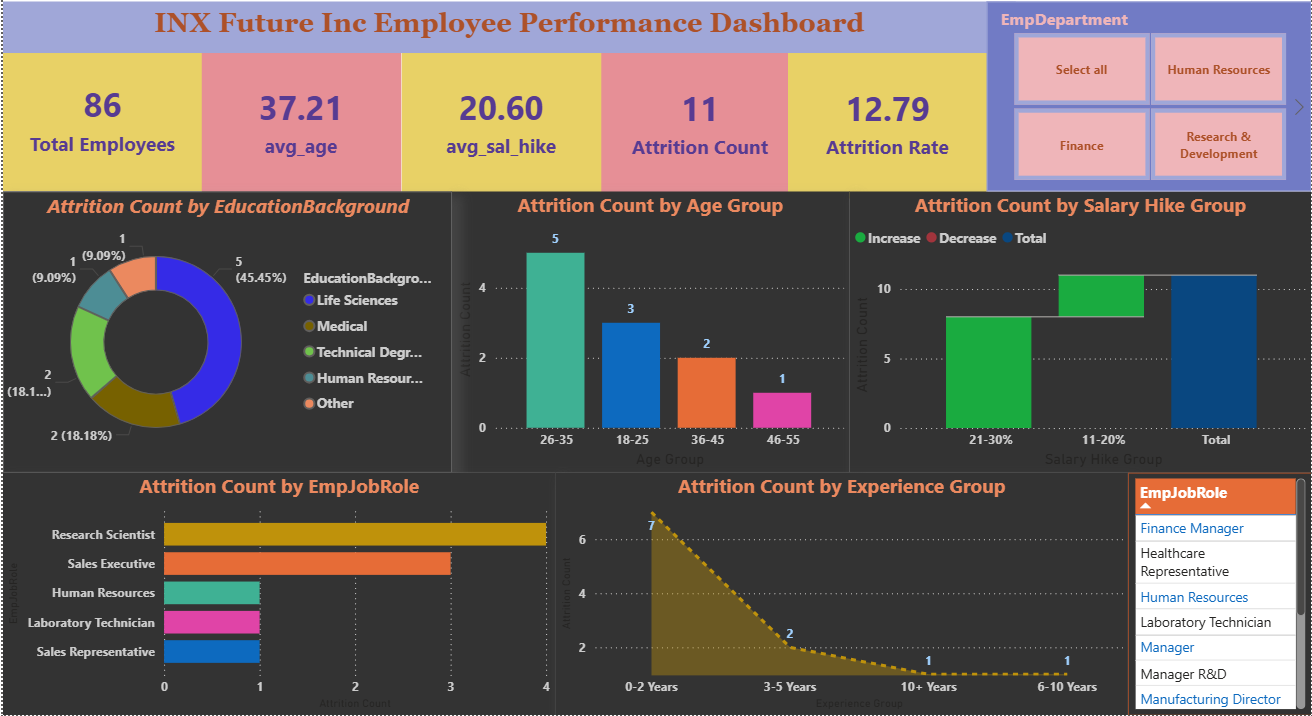

What the dashboard file says about the page in this screenshot:
{"tool":"powerbi","page":{"name":"Page 1","canvas":[1280,720],"ordinal":0},"visuals":[{"type":"card","fields":{"Values":["Sheet1.Total Employees"]},"box":[0,63.1,194.9,144.1],"z":0},{"type":"card","fields":{"Values":["Sheet1.Attrition Count"]},"box":[584.6,63.1,194.9,150.9],"z":1000},{"type":"card","fields":{"Values":["Sheet1.Attrition Rate"]},"box":[768.4,63.1,194.9,150.9],"z":2000},{"type":"card","fields":{"Values":["Sheet1.avg_age"]},"box":[194.9,63.1,194.9,149.6],"z":3000},{"type":"card","fields":{"Values":["Sheet1.avg_sal_hike"]},"box":[389.7,63.1,194.9,149.6],"z":4000},{"type":"textbox","box":[0,22,990.7,50.8],"z":5000},{"type":"clusteredColumnChart","fields":{"Category":["Sheet1.Age Group"],"Y":["Sheet1.Attrition Count"]},"box":[439,207.9,388.9,275.1],"z":6000},{"type":"donutChart","fields":{"Category":["Sheet1.EducationBackground"],"Y":["Sheet1.Attrition Count"]},"box":[0,207.9,439,275.1],"z":7000},{"type":"clusteredBarChart","fields":{"Category":["Sheet1.EmpJobRole"],"Y":["Sheet1.Attrition Count"]},"box":[0,483,540.5,237.2],"z":8000},{"type":"waterfallChart","fields":{"Category":["Sheet1.Salary Hike Group"],"Y":["Sheet1.Attrition Count"]},"box":[827.9,207.9,452.4,275.1],"z":9000},{"type":"areaChart","fields":{"Category":["Sheet1.Experience Group"],"Y":["Sheet1.Attrition Count"]},"box":[540.5,483,560.1,237.2],"z":10000},{"type":"slicer","fields":{"Values":["Sheet1.EmpDepartment"]},"box":[962.4,22,317.9,185.9],"z":11000},{"type":"tableEx","fields":{"Values":["Sheet1.EmpJobRole"]},"box":[1100.5,483,179.8,237.2],"z":12000}]}

Visuals, with their boxes in screenshot pixels (x1, y1, x2, y2):
card - Sheet1.Total Employees: bbox=[0, 40, 199, 187]
card - Sheet1.Attrition Count: bbox=[596, 40, 794, 194]
card - Sheet1.Attrition Rate: bbox=[783, 40, 981, 194]
card - Sheet1.avg_age: bbox=[199, 40, 397, 193]
card - Sheet1.avg_sal_hike: bbox=[397, 40, 596, 193]
textbox: bbox=[0, 0, 1009, 50]
clusteredColumnChart - Sheet1.Age Group x Sheet1.Attrition Count: bbox=[447, 188, 844, 468]
donutChart - Sheet1.EducationBackground x Sheet1.Attrition Count: bbox=[0, 188, 447, 468]
clusteredBarChart - Sheet1.EmpJobRole x Sheet1.Attrition Count: bbox=[0, 468, 551, 710]
waterfallChart - Sheet1.Salary Hike Group x Sheet1.Attrition Count: bbox=[844, 188, 1304, 468]
areaChart - Sheet1.Experience Group x Sheet1.Attrition Count: bbox=[551, 468, 1121, 710]
slicer - Sheet1.EmpDepartment: bbox=[981, 0, 1304, 188]
tableEx - Sheet1.EmpJobRole: bbox=[1121, 468, 1304, 710]
